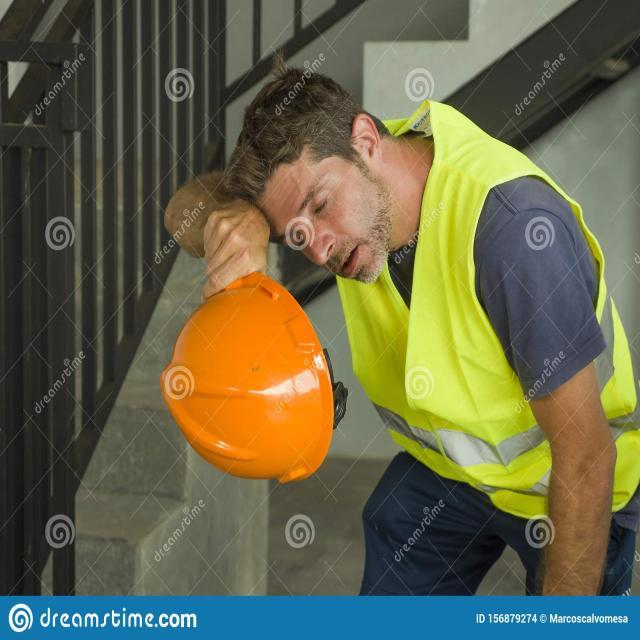helmet: (164, 300, 327, 479)
jacket: (371, 189, 630, 510)
